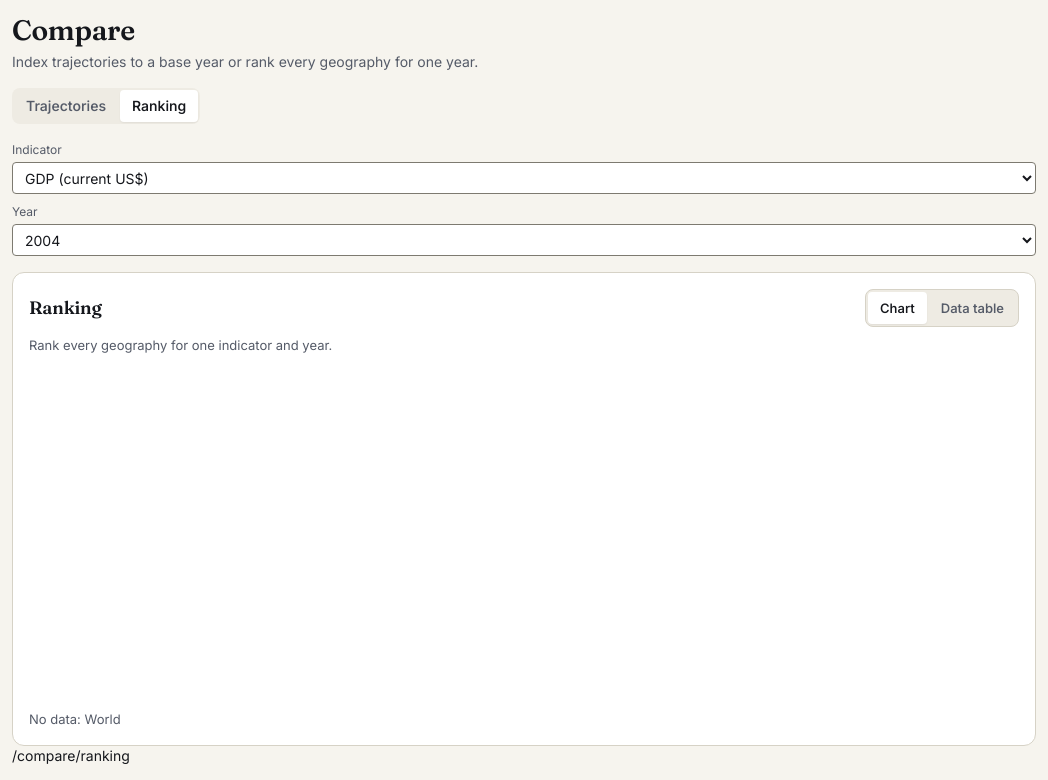
it: ComparePage ranking › changes the ranked year through the URL
This screenshot has width=1048, height=780.
Select "2003" in the dropdown labelled "Year" at (524, 240), box x1=12 y1=224 x2=1036 y2=256
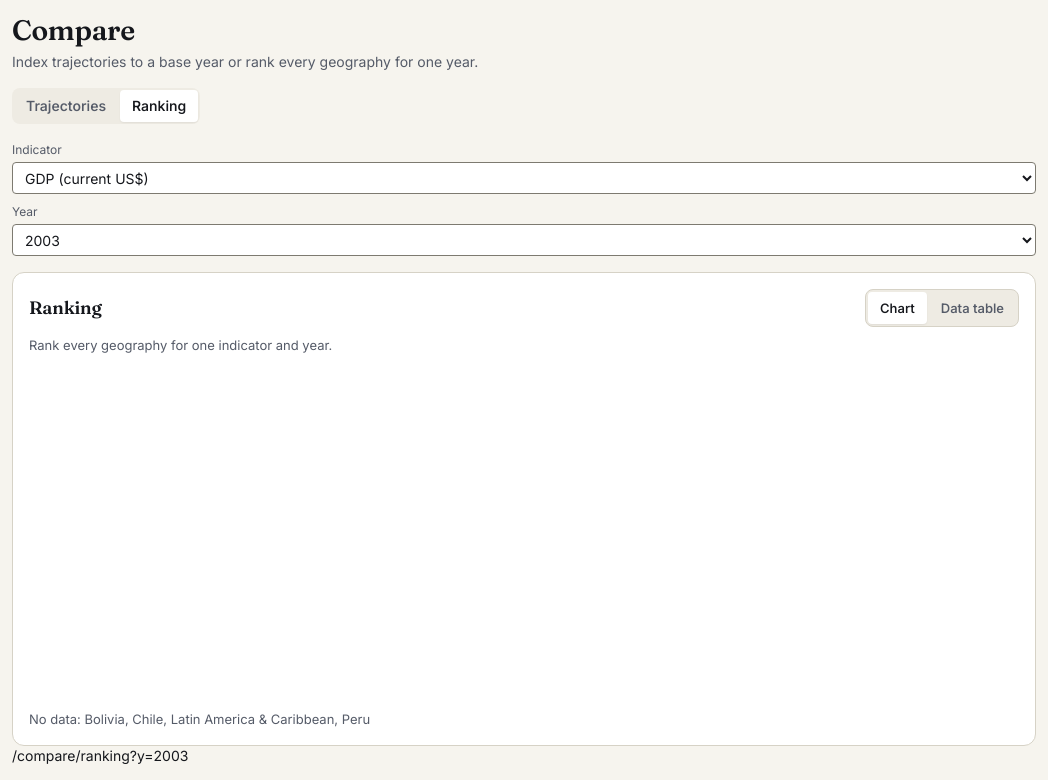
Check: the text with test id "location" shows "y=2003", box x1=12 y1=747 x2=188 y2=764
Click the radio button labelled "Data table" at (972, 308), box x1=929 y1=292 x2=1016 y2=324
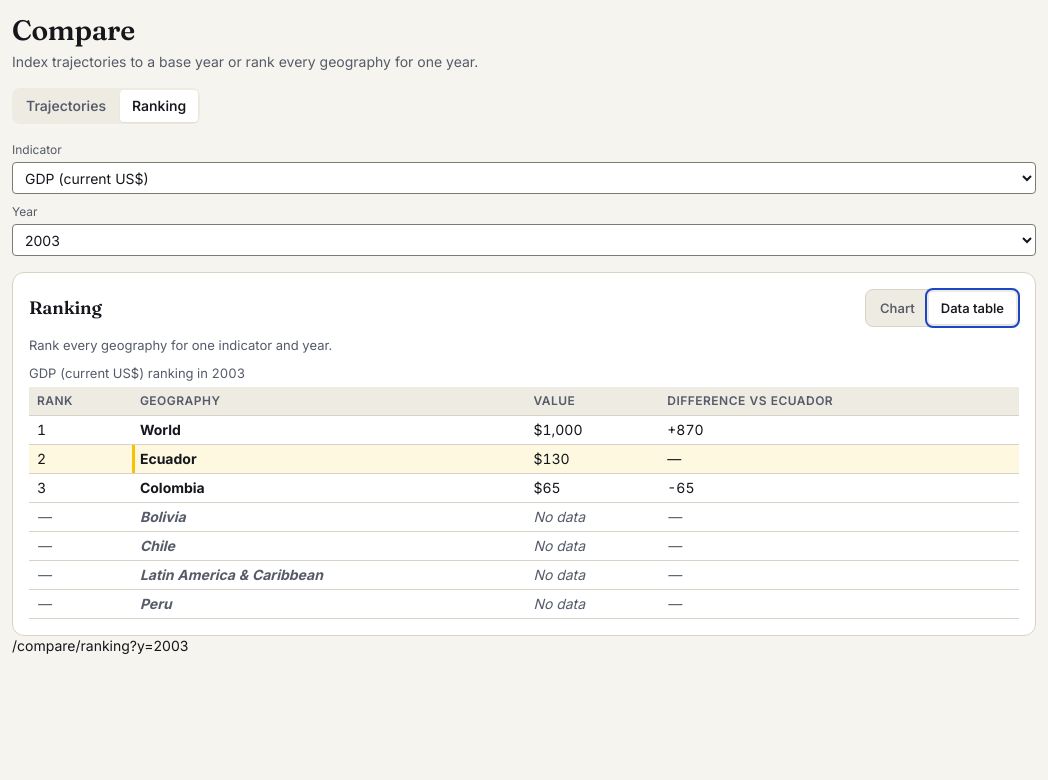
Check: the row "1 World $1,000 +870" is shown, box x1=29 y1=416 x2=1019 y2=444
